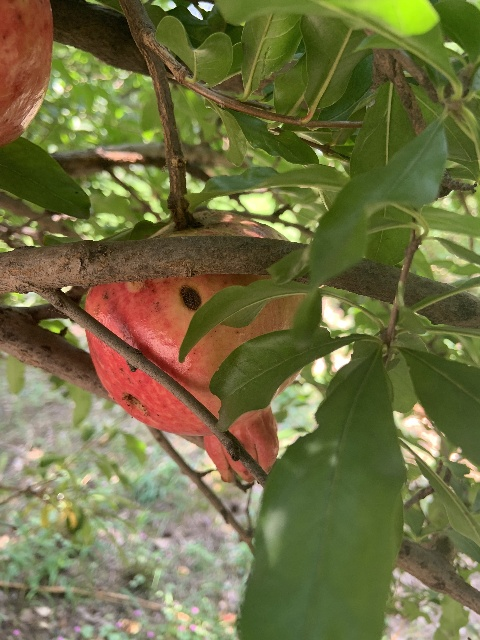ripe: (82, 209, 307, 482), (0, 0, 53, 143)
